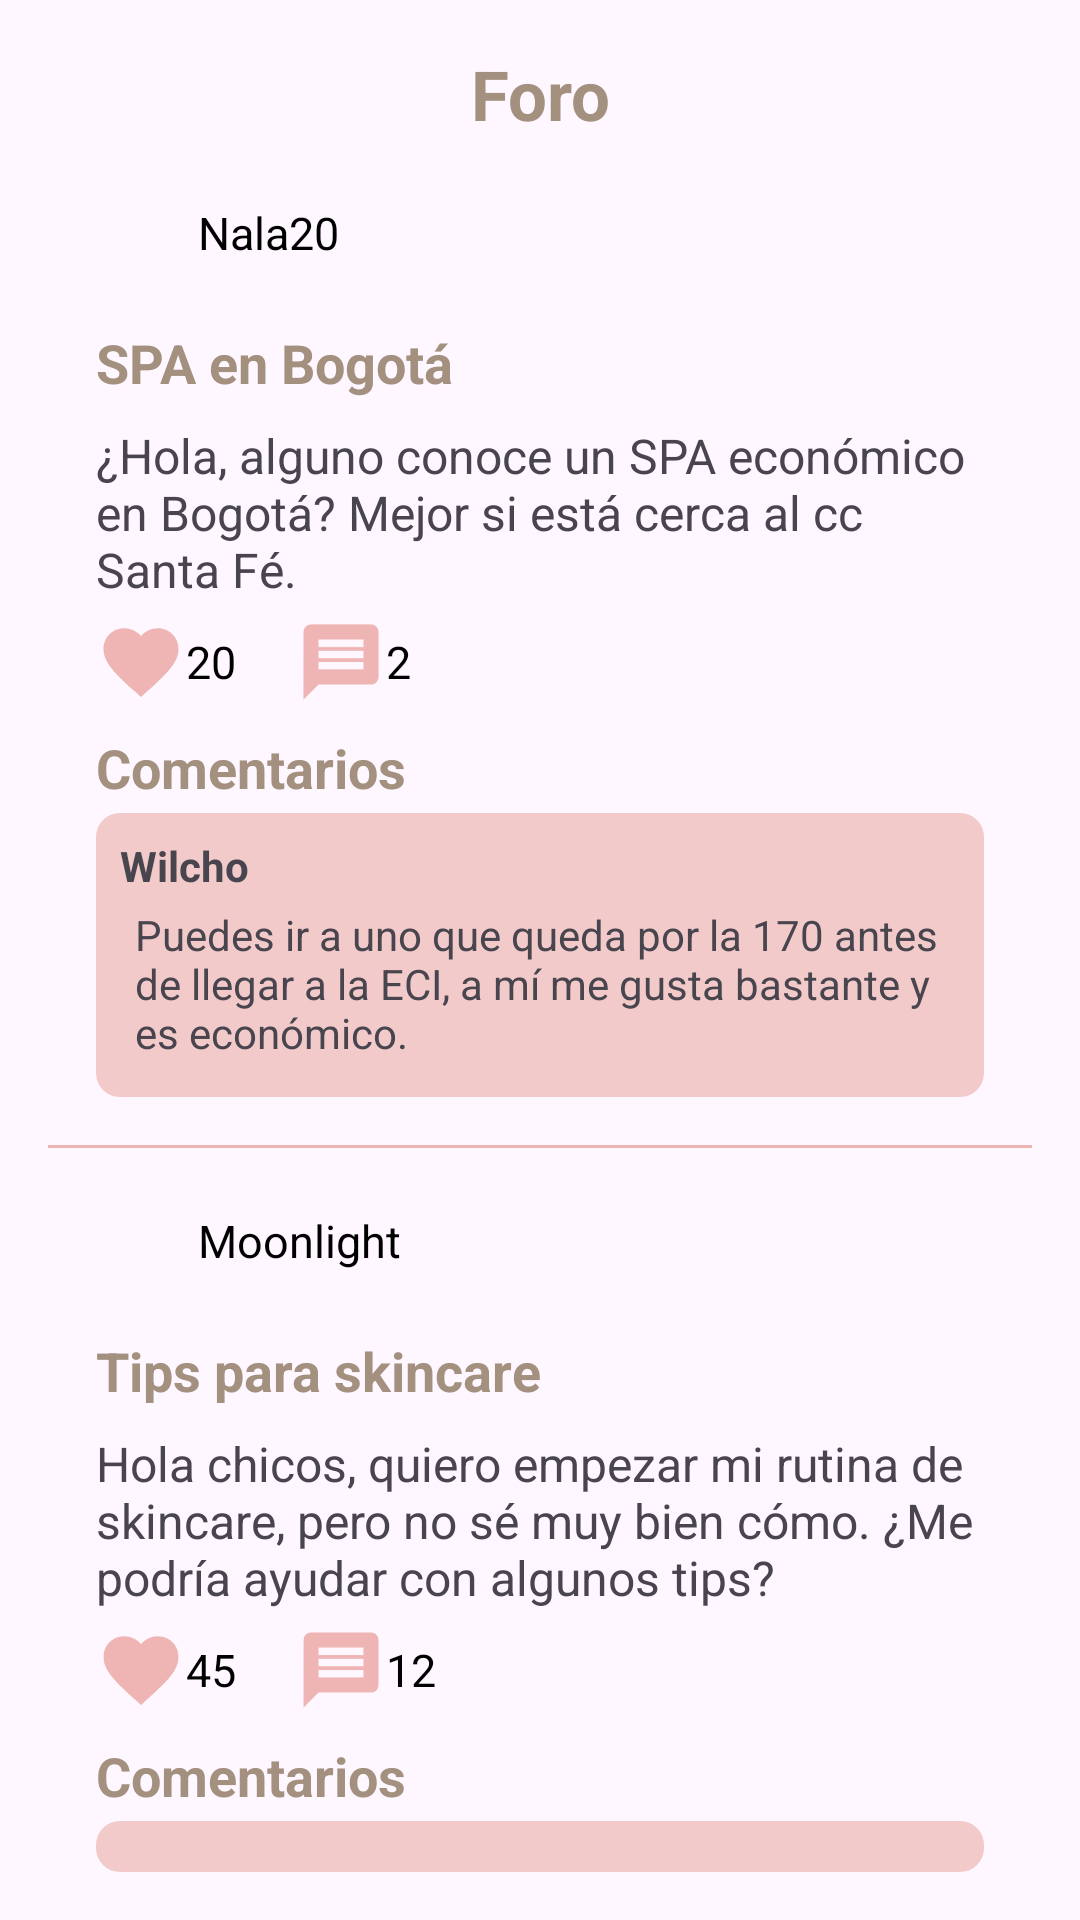

Where to tap for icons on this 1080x1920 app screen, as [x,y]:
heart: [141,662], [141,1670]
message: [341,661], [341,1669]
